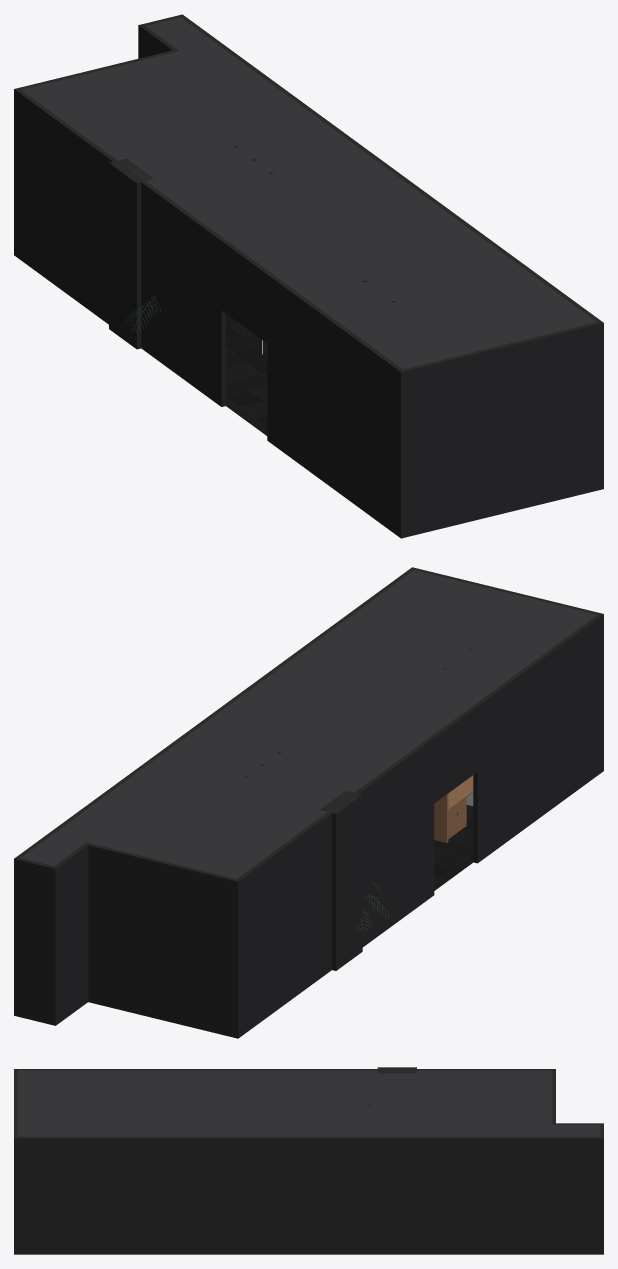
File: lounge.glb
The picture shows the model from 3 angles, top to bottom: view 1: azimuth 30°, elevation 25°; view 2: azimuth 150°, elevation 25°; view 3: azimuth 270°, elevation 25°; orthographic projection. The views are drawn at different scales.
Visible parts, largest first — view 1: Walls, Ceiling, Pillar_Lounge, Floor; view 2: Walls, Ceiling, Pillar_Lounge, Floor, FD_WoodEnd; view 3: Walls, Ceiling, Pillar_Lounge.
Part boxes in pixels (x1,y1,x2,y2): Walls: [14, 14, 603, 538]; Ceiling: [21, 17, 596, 369]; Pillar_Lounge: [109, 158, 153, 349]; Floor: [226, 314, 267, 435]; Walls: [14, 567, 603, 1038]; Ceiling: [21, 570, 596, 878]; Pillar_Lounge: [320, 790, 362, 970]; Floor: [434, 805, 473, 890]; FD_WoodEnd: [434, 793, 448, 842]; Walls: [14, 1069, 603, 1254]; Ceiling: [17, 1070, 600, 1136]; Pillar_Lounge: [377, 1067, 416, 1073].
Size of the model in its own units: 5.16 by 3.61 by 16.55.
42 materials, 1 textured.
